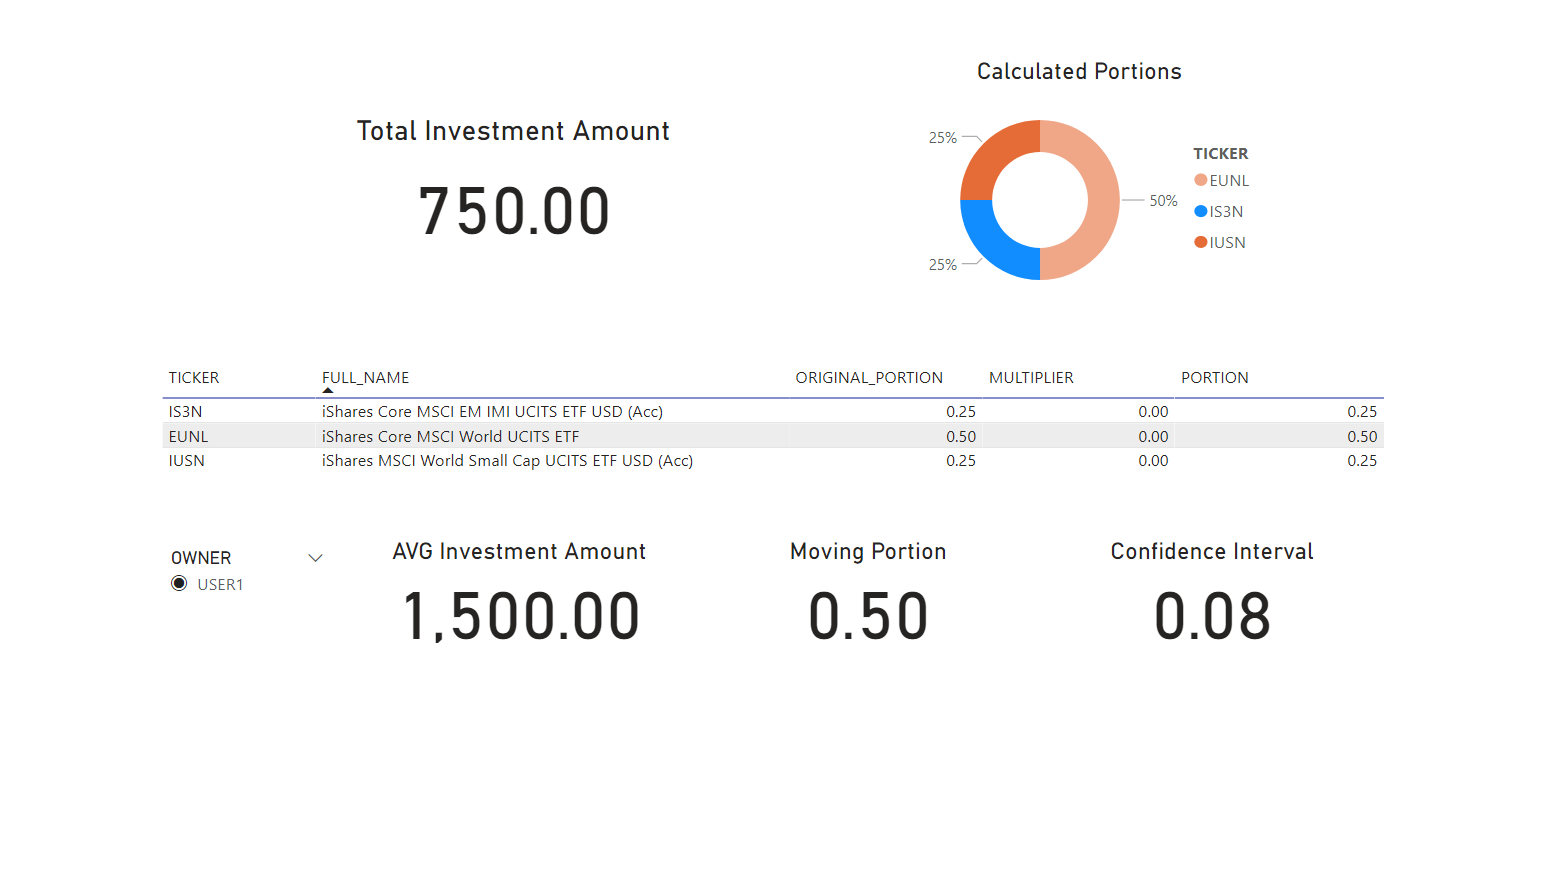

This screenshot's page, from the dashboard's own definition file:
{"tool":"powerbi","page":{"name":"CURRENT RESULTS","canvas":[1280,720],"ordinal":1},"visuals":[{"type":"card","title":"Total Investment Amount","fields":{"Values":["Sum(NN_KK_ETF_CALC_RES_PORTION_AND_SUMS.INVESTMENT_SUM)"]},"box":[237.2,97.5,378.6,117.4],"z":0},{"type":"tableEx","fields":{"Values":["NN_KK_ETF_CALC_RES_PORTION_AND_SUMS.TICKER","REF_TICKERS.FULL_NAME","Sum(NN_KK_ETF_CALC_RES_PORTION_AND_SUMS.ORIGINAL_PORTION)","Sum(NN_KK_ETF_CALC_RES_PORTION_AND_SUMS.MULTIPLIER)","Sum(NN_KK_ETF_CALC_RES_PORTION_AND_SUMS.PORTION)"]},"box":[135.7,294.9,1008.6,129.4],"z":1000},{"type":"donutChart","title":"Calculated Portions","fields":{"Category":["REF_TICKERS.TICKER"],"Y":["Sum(NN_KK_ETF_CALC_RES_PORTION_AND_SUMS.PORTION)"]},"box":[724.1,51.3,322.4,210],"z":2000},{"type":"card","title":"AVG Investment Amount","fields":{"Values":["Avg(REF_ETF_PARAMETERS_CURRENT.VALUE)"]},"box":[311.4,440.8,238.9,90.9],"z":3000},{"type":"card","title":"Moving Portion","fields":{"Values":["Avg(REF_ETF_PARAMETERS_CURRENT.VALUE)"]},"box":[594.9,440.8,238.9,90.9],"z":4000},{"type":"card","title":"Confidence Interval","fields":{"Values":["Avg(REF_ETF_PARAMETERS_CURRENT.VALUE)"]},"box":[873.5,440.8,238.9,90.9],"z":5000},{"type":"slicer","fields":{"Values":["REF_ETF_PARAMETERS_CURRENT.OWNER"]},"box":[135.7,444.7,149,83.1],"z":6000}]}

Visuals, with their boxes in screenshot pixels (x1, y1, x2, y2), scaled from the page's 1280x720 canvas onto the 1560x879 screenshot:
"Total Investment Amount" card: 289, 119, 751, 262
tableEx - NN_KK_ETF_CALC_RES_PORTION_AND_SUMS.TICKER x REF_TICKERS.FULL_NAME: 165, 360, 1395, 518
"Calculated Portions" donutChart: 882, 63, 1275, 319
"AVG Investment Amount" card: 380, 538, 671, 649
"Moving Portion" card: 725, 538, 1016, 649
"Confidence Interval" card: 1065, 538, 1356, 649
slicer - REF_ETF_PARAMETERS_CURRENT.OWNER: 165, 543, 347, 644
